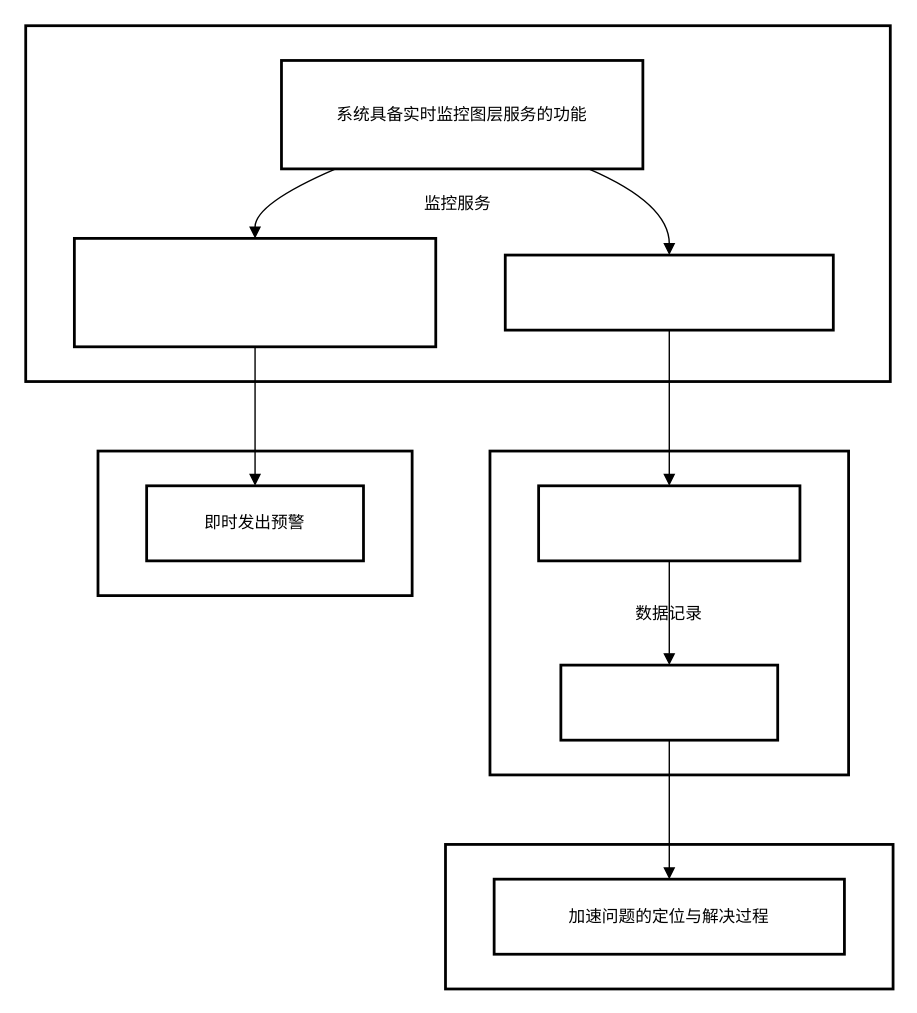
Some shapes in this 917 by 1013 pixel diagram are drawn without their labels. Here are the shapes that lost their labels. From the top down, the centre of each, then its label:
At (x=254, y=292): "发现异常服务时迅速发出预警".
At (x=668, y=292): "跟踪图层服务的调用细节".
At (x=669, y=523): "记录调用链路信息".
At (x=668, y=702): "提供数据支持".
